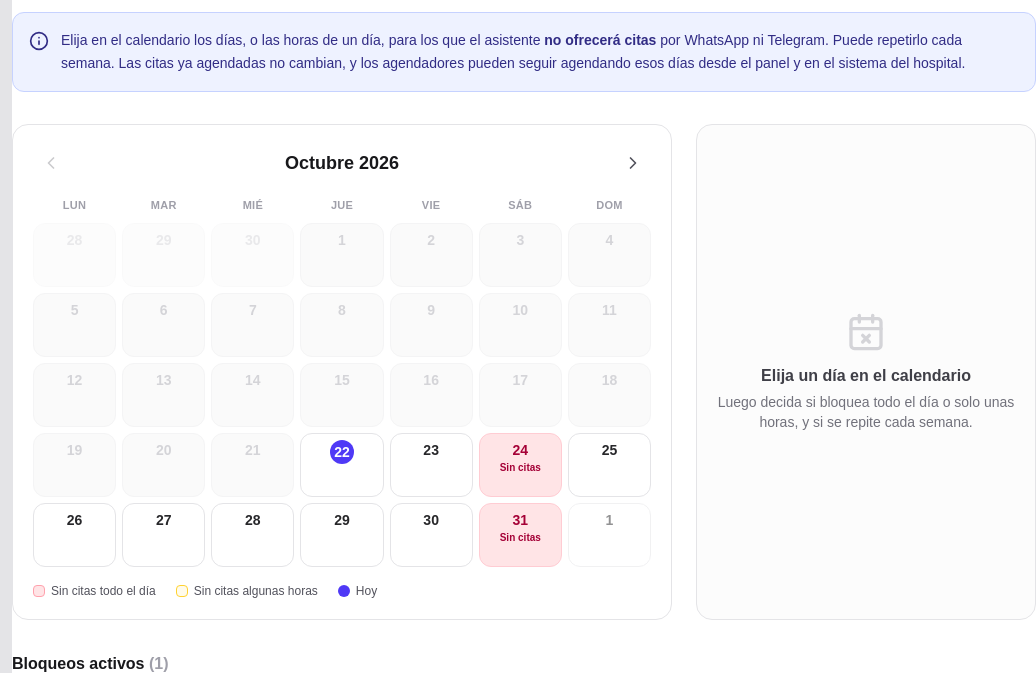
Scenario: BloqueosAgenda — Configuración › Días sin citas › si el servidor lo rechaza, muestra el motivo
Click the button "24 Sin citas" at (520, 465), box x1=479 y1=433 x2=562 y2=497
(page scrolled)
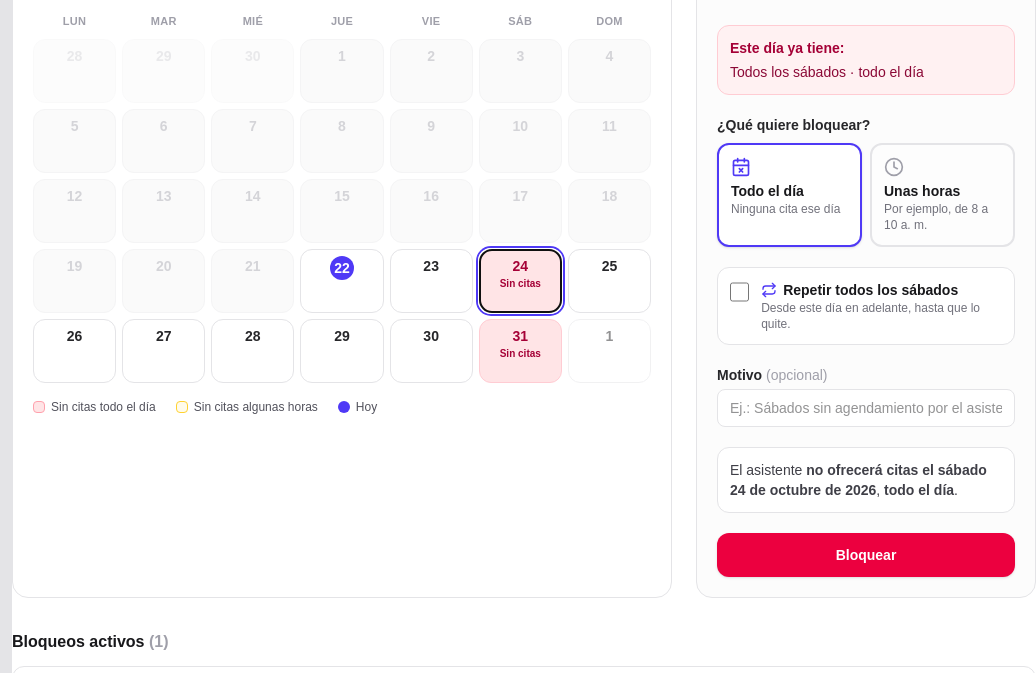
Check: the text "Este día ya tiene:" is shown, box x1=730 y1=40 x2=844 y2=56
Click the button "Bloquear" at (866, 554), box x1=717 y1=532 x2=1015 y2=576
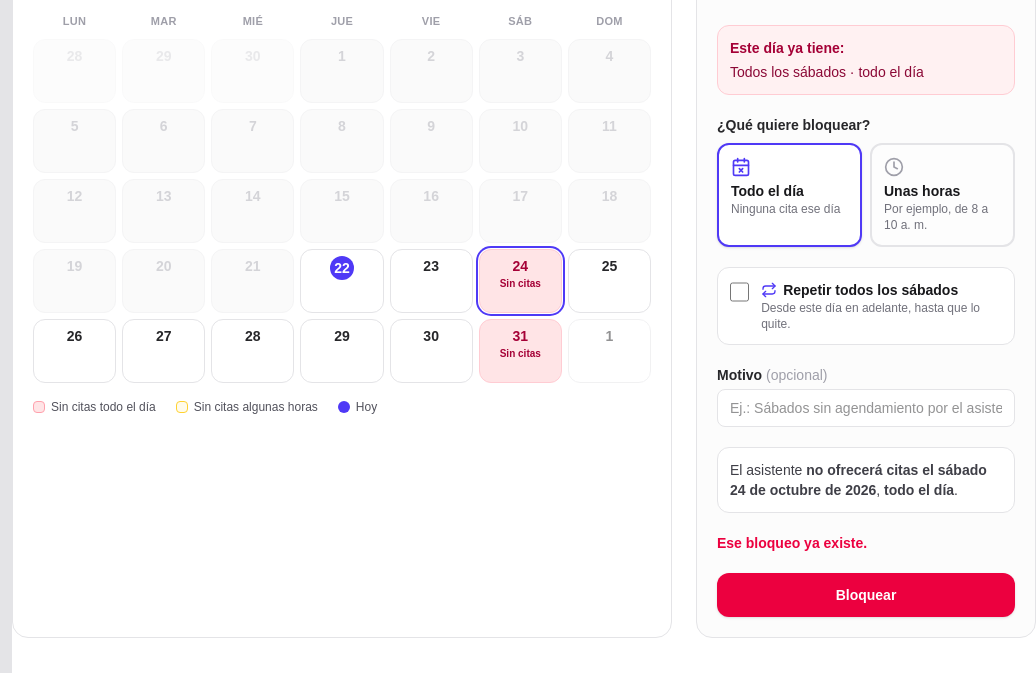
Check: the message reads "Ese bloqueo ya existe.", box x1=717 y1=534 x2=867 y2=550
